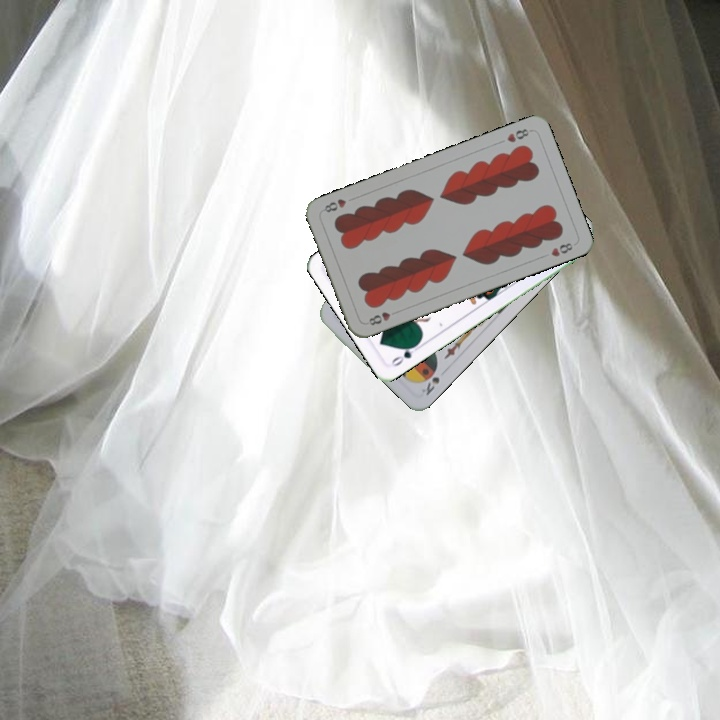GO: (387, 339, 421, 369)
H8: (363, 306, 401, 328), (503, 124, 534, 145)
SK: (417, 373, 442, 398)
